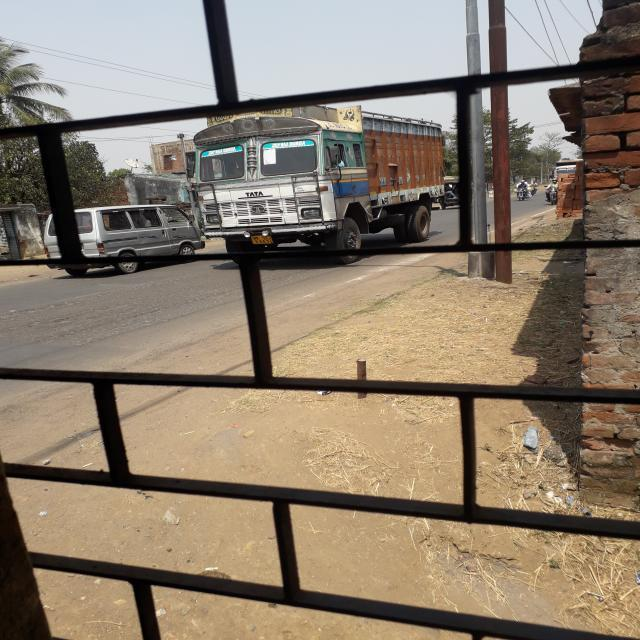car_back: (40, 203, 211, 281)
truck_front: (184, 103, 451, 274)
